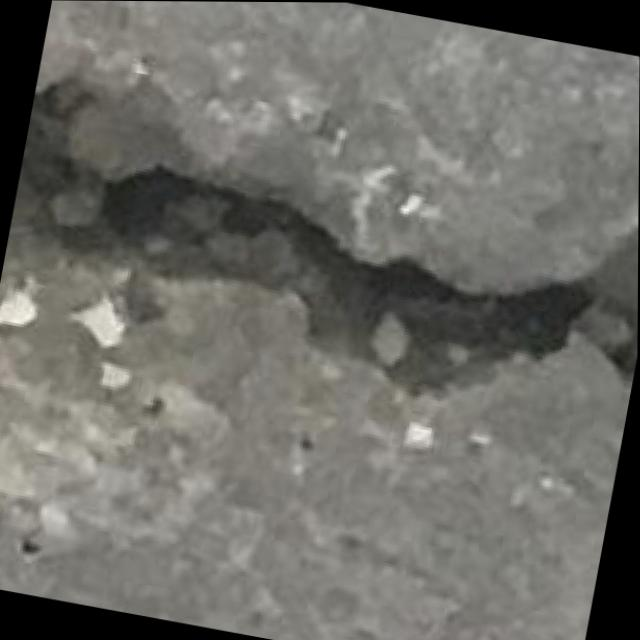Crack: (0, 47, 640, 453)
